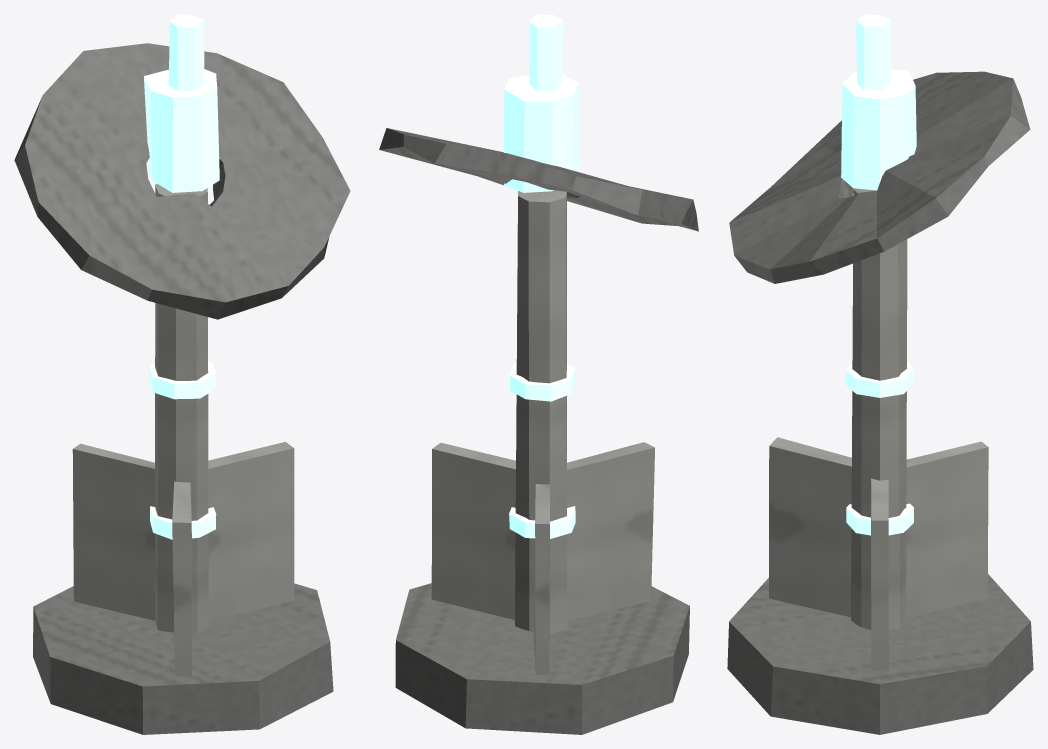
File: beacon_part_1.glb
3 renders of one model, left to right at view 1: azimuth 30°, elevation 25°; view 2: azimuth 150°, elevation 25°; view 3: azimuth 270°, elevation 25°, orthographic.
Visible parts, largest first — view 1: BeaconPart1; view 2: BeaconPart1; view 3: BeaconPart1.
Boxes of the visible parts, bbox=[...] form: BeaconPart1: bbox=[14, 14, 350, 734]; BeaconPart1: bbox=[379, 14, 698, 734]; BeaconPart1: bbox=[727, 14, 1033, 734].
Size of the model in its own units: 0.2727 by 0.5912 by 0.2522.
Materials: 3 (2 with a texture image).
